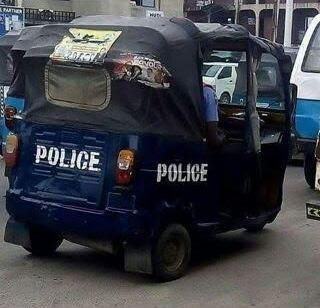keke: (3, 13, 290, 282)
